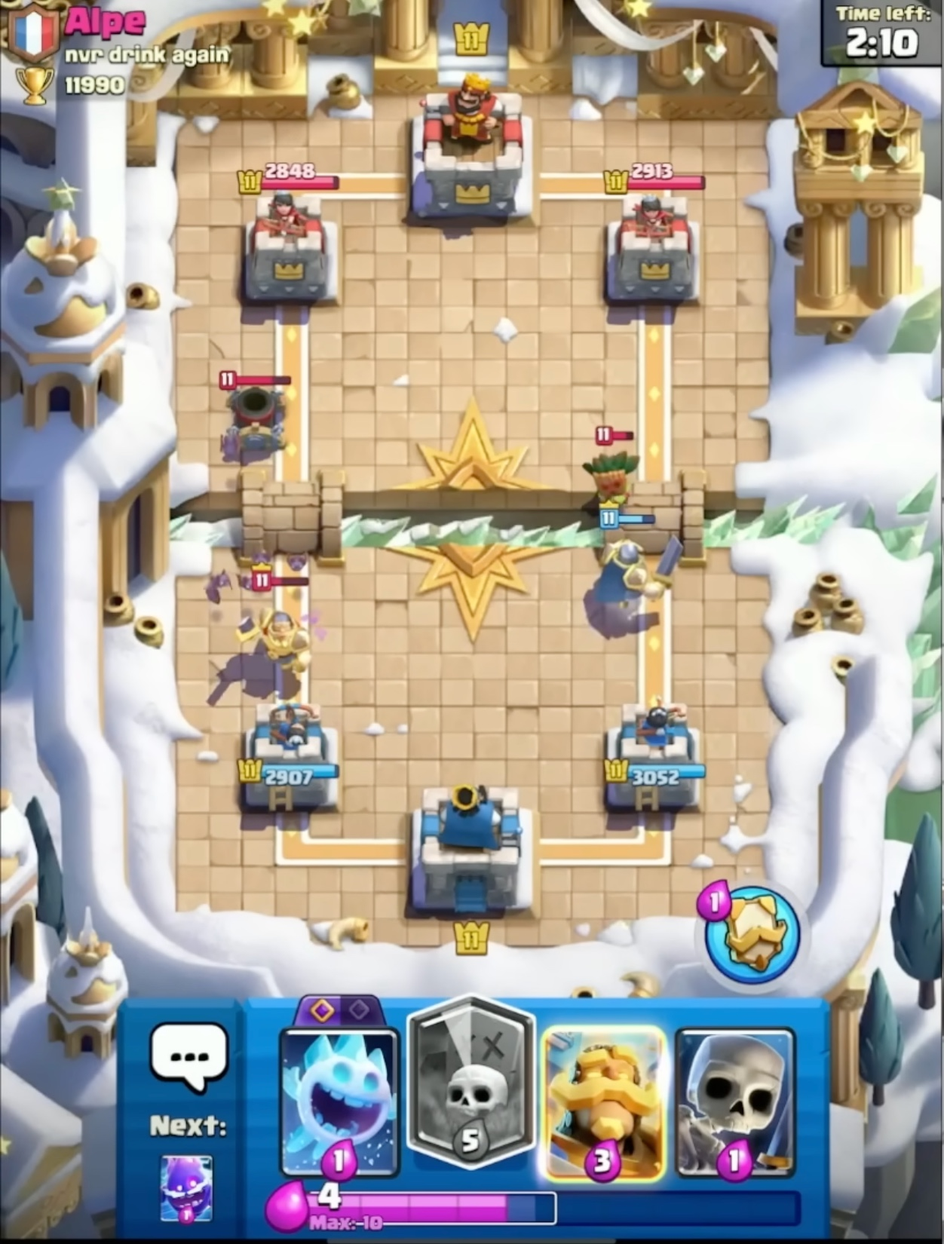dart-goblin: (575, 420, 642, 521)
hero-knight: (230, 565, 322, 690)
mortar: (209, 366, 304, 458)
